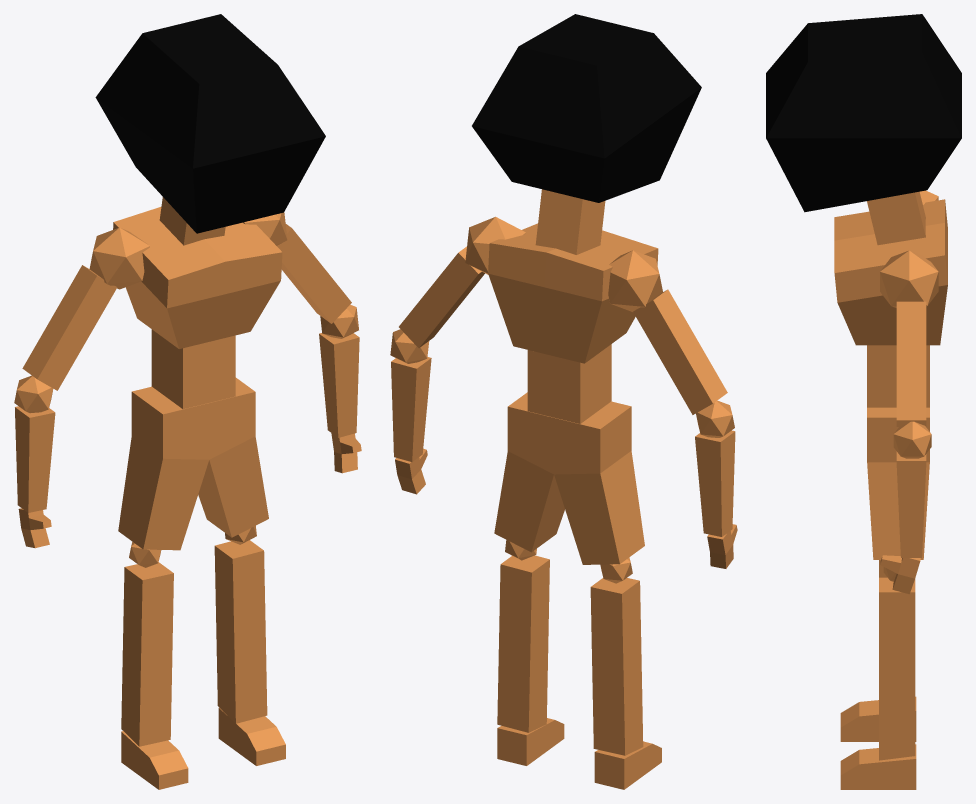
File: character.fbx
The picture shows the model from 3 angles, left to right: view 1: azimuth 30°, elevation 25°; view 2: azimuth 150°, elevation 25°; view 3: azimuth 270°, elevation 25°; orthographic projection.
Parts seen in each view (by area): view 1: Cube.012; view 2: Cube.012; view 3: Cube.012.
Boxes of the visible parts, left/top/right/bottom form: Cube.012: left=14, top=14, right=361, bottom=789; Cube.012: left=390, top=14, right=737, bottom=789; Cube.012: left=766, top=14, right=961, bottom=789.
Size of the model in its own units: 2.3 by 4.67 by 1.14.
